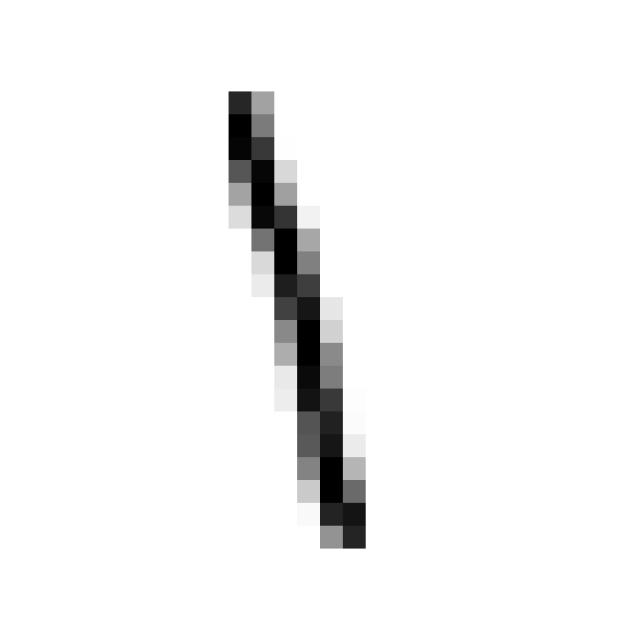1 -one-: (206, 71, 388, 559)
